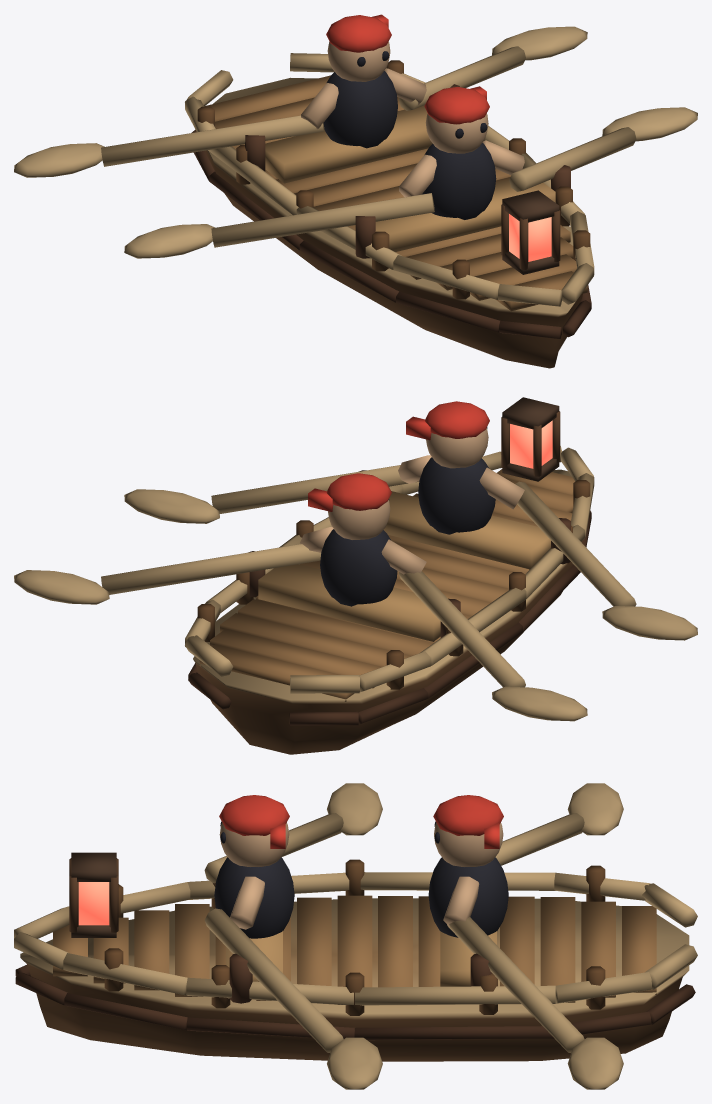
The model's file is barco-abordador.glb.
3 views of the same model, one above another, from view 1: azimuth 30°, elevation 25°; view 2: azimuth 150°, elevation 25°; view 3: azimuth 270°, elevation 25° (orthographic). The views are drawn at different scales.
Parts seen in each view (by area): view 1: Hull, Crew, Oar_L1, Oar_L2, Oar_R1, Lantern, Oar_R2; view 2: Hull, Crew, Oar_R2, Oar_L2, Oar_L1, Oar_R1, Lantern; view 3: Hull, Crew, Oar_R1, Oar_R2, Lantern, Oar_L2, Oar_L1.
Part boxes in pixels (left/top/right/bottom): Hull: left=185, top=53, right=594, bottom=368; Crew: left=301, top=14, right=524, bottom=219; Oar_L1: left=124, top=193, right=434, bottom=258; Oar_L2: left=14, top=115, right=324, bottom=177; Oar_R1: left=509, top=107, right=697, bottom=191; Lantern: left=501, top=190, right=560, bottom=274; Oar_R2: left=398, top=26, right=587, bottom=110; Hull: left=185, top=446, right=594, bottom=754; Crew: left=300, top=401, right=524, bottom=606; Oar_R2: left=14, top=544, right=321, bottom=604; Oar_L2: left=398, top=571, right=587, bottom=721; Oar_L1: left=515, top=481, right=697, bottom=640; Oar_R1: left=124, top=465, right=418, bottom=523; Lantern: left=501, top=397, right=560, bottom=481; Hull: left=14, top=859, right=697, bottom=1061; Crew: left=214, top=795, right=508, bottom=938; Oar_R1: left=204, top=908, right=382, bottom=1089; Oar_R2: left=447, top=917, right=623, bottom=1089; Lantern: left=69, top=852, right=118, bottom=937; Oar_L2: left=495, top=783, right=623, bottom=865; Oar_L1: left=204, top=783, right=382, bottom=883.
Size of the model in its own units: 1 by 0.3435 by 0.9465.
